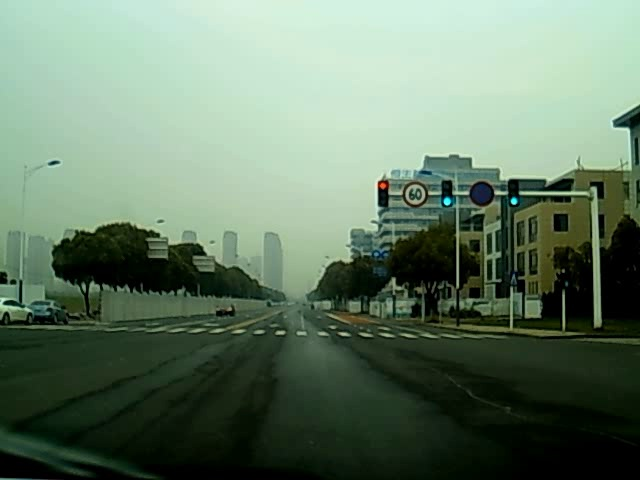Traffic_Light_go: (443, 180, 452, 209), (508, 183, 518, 208)
Traffic_Light_stop: (378, 182, 388, 204)
